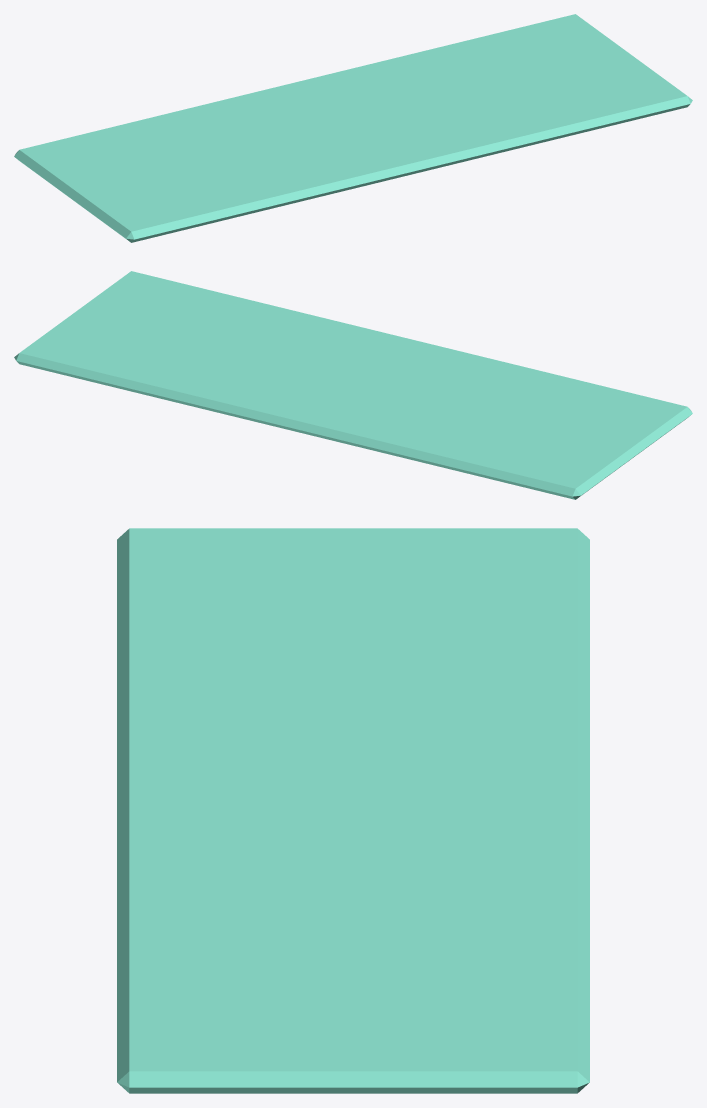
3 views of the same model, one above another, from view 1: azimuth 30°, elevation 25°; view 2: azimuth 150°, elevation 25°; view 3: azimuth 270°, elevation 25° (orthographic). The views are drawn at different scales.
Visible parts, largest first — view 1: Exercise mat; view 2: Exercise mat; view 3: Exercise mat.
Part boxes in pixels (x1,y1,x2,y2): Exercise mat: (14, 14, 692, 242); Exercise mat: (14, 271, 692, 499); Exercise mat: (117, 528, 589, 1093).
Bounding box in the file's own units: 180 × 3.4 × 65.
